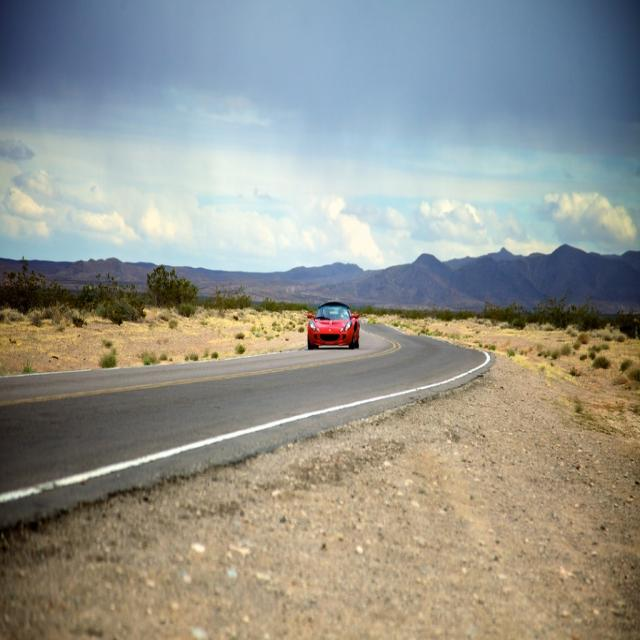other: (306, 303, 358, 347)
